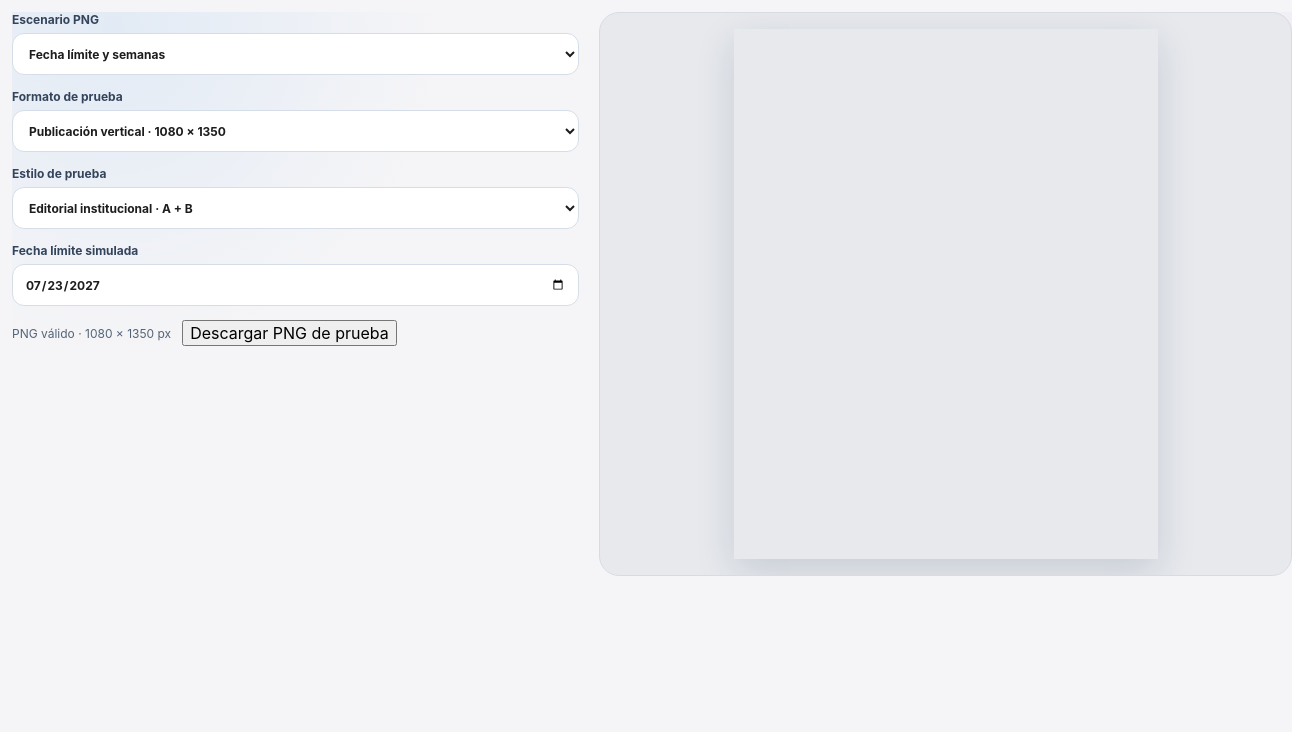
Test case: 0.60.12 · avisos PNG guardados › Debug muestra la vista previa real, cambia formatos y explica desbordamiento
Expected: the text "PNG válido · 1080 × 1350 px" is shown, [12,326,171,340]
Select "Historia · 1080 × 1920" in the dropdown labelled "Formato de prueba" at [296, 131], box [12,110,579,152]
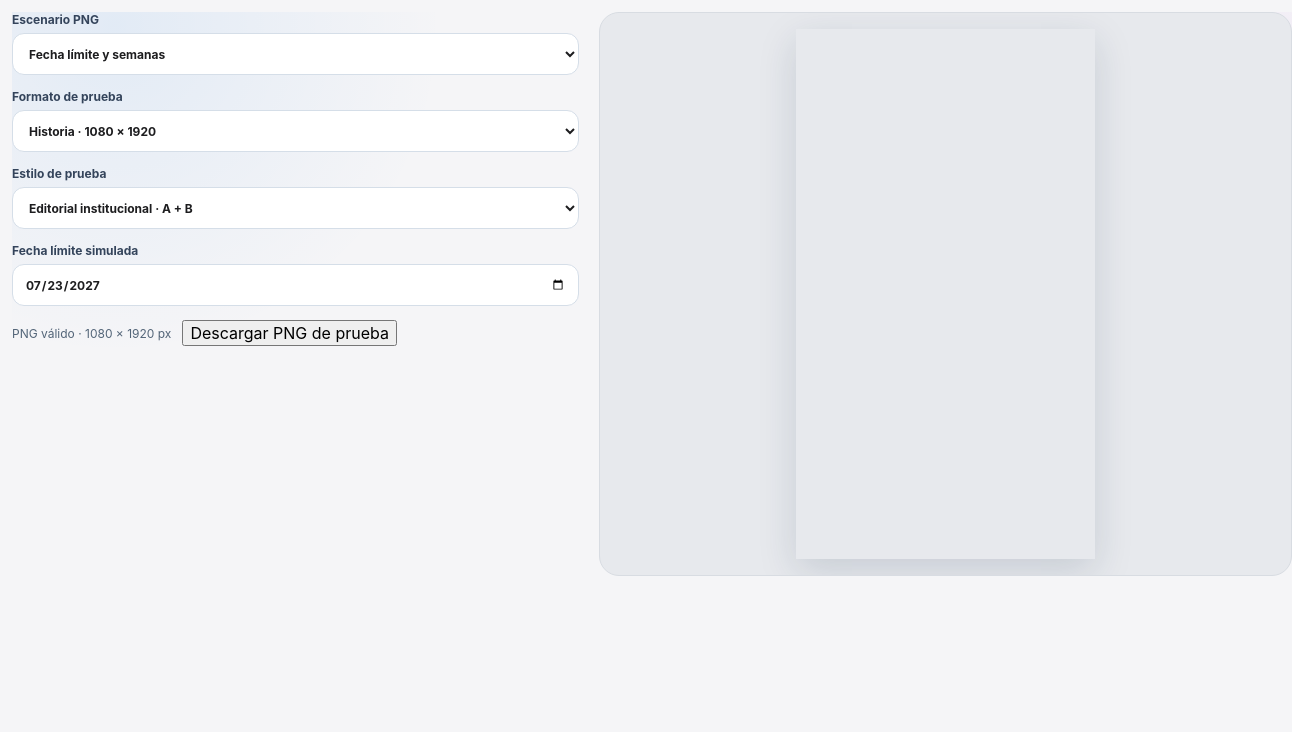
Expected: the text "PNG válido · 1080 × 1920 px" is shown, [12,326,171,340]
Select "Texto demasiado largo" in the dropdown labelled "Escenario PNG" at [296, 54], box [12,33,579,75]
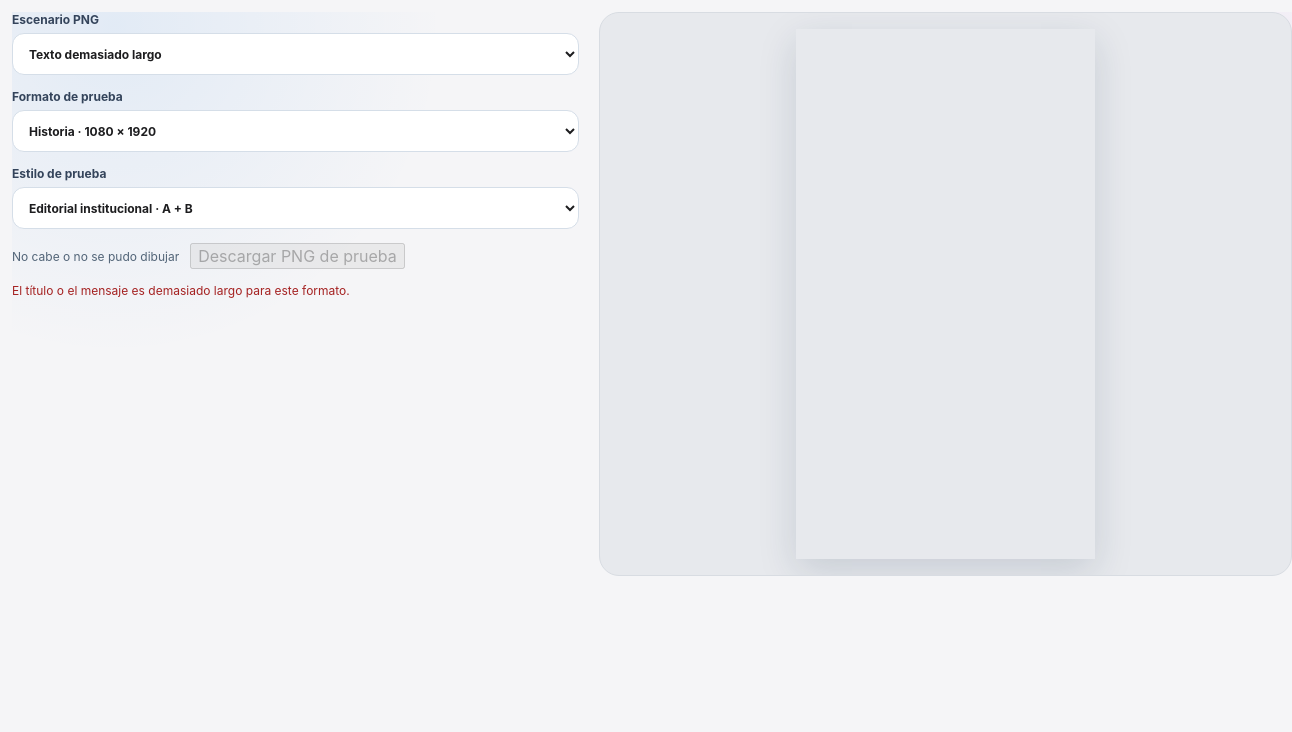
Expected: the message "El título o el mensaje es demasiado largo para este formato." is shown, [12,283,350,298]
Expected: the button "Descargar PNG de prueba" is disabled, [190,243,405,269]
